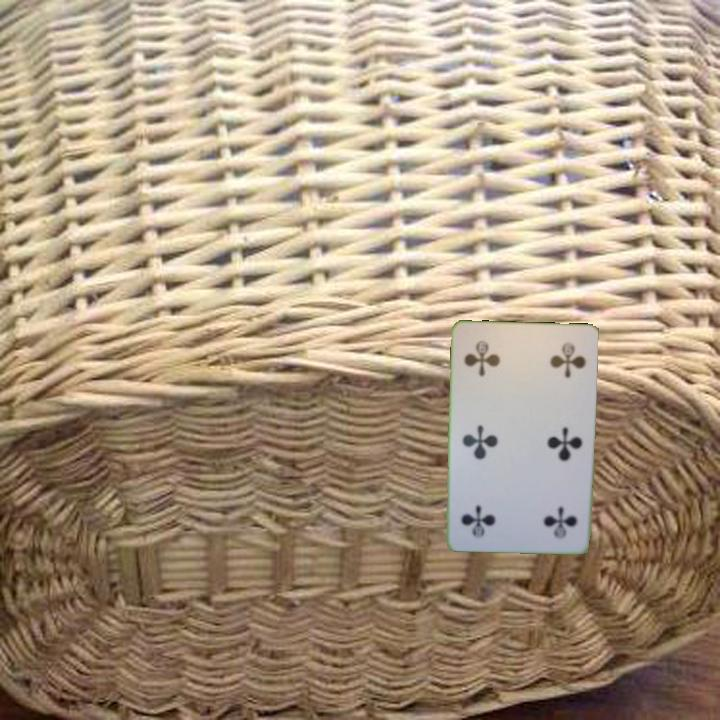c_6.png: (515, 485, 584, 545), (459, 330, 527, 390)
